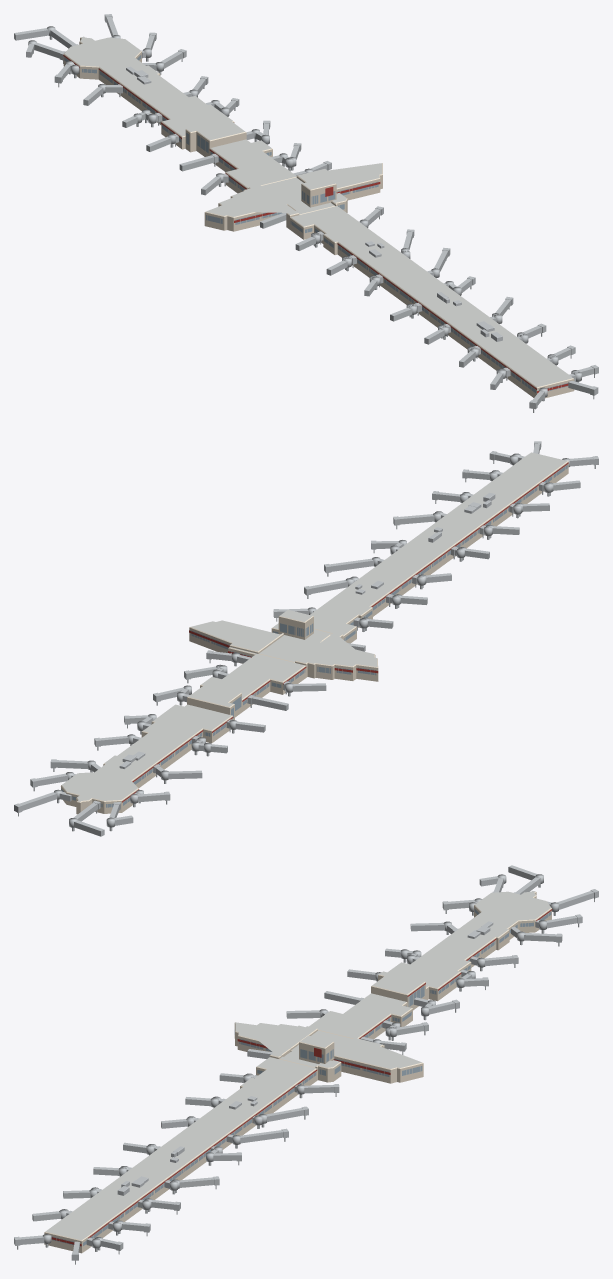
File: atl-hartsfield-jackson-concourse-c.detail.glb
The picture shows the model from 3 angles, top to bottom: view 1: azimuth 30°, elevation 25°; view 2: azimuth 150°, elevation 25°; view 3: azimuth 330°, elevation 25°; orthographic projection.
Parts seen in each view (by area): view 1: Hartsfield-Jackson Concourse C; view 2: Hartsfield-Jackson Concourse C; view 3: Hartsfield-Jackson Concourse C.
Boxes of the visible parts, box(x1,y1,x2,y2) form: Hartsfield-Jackson Concourse C: box(14, 14, 598, 412); Hartsfield-Jackson Concourse C: box(14, 441, 598, 836); Hartsfield-Jackson Concourse C: box(14, 865, 598, 1264).
Bounding box in the file's own units: 140 × 22.1 × 674.
